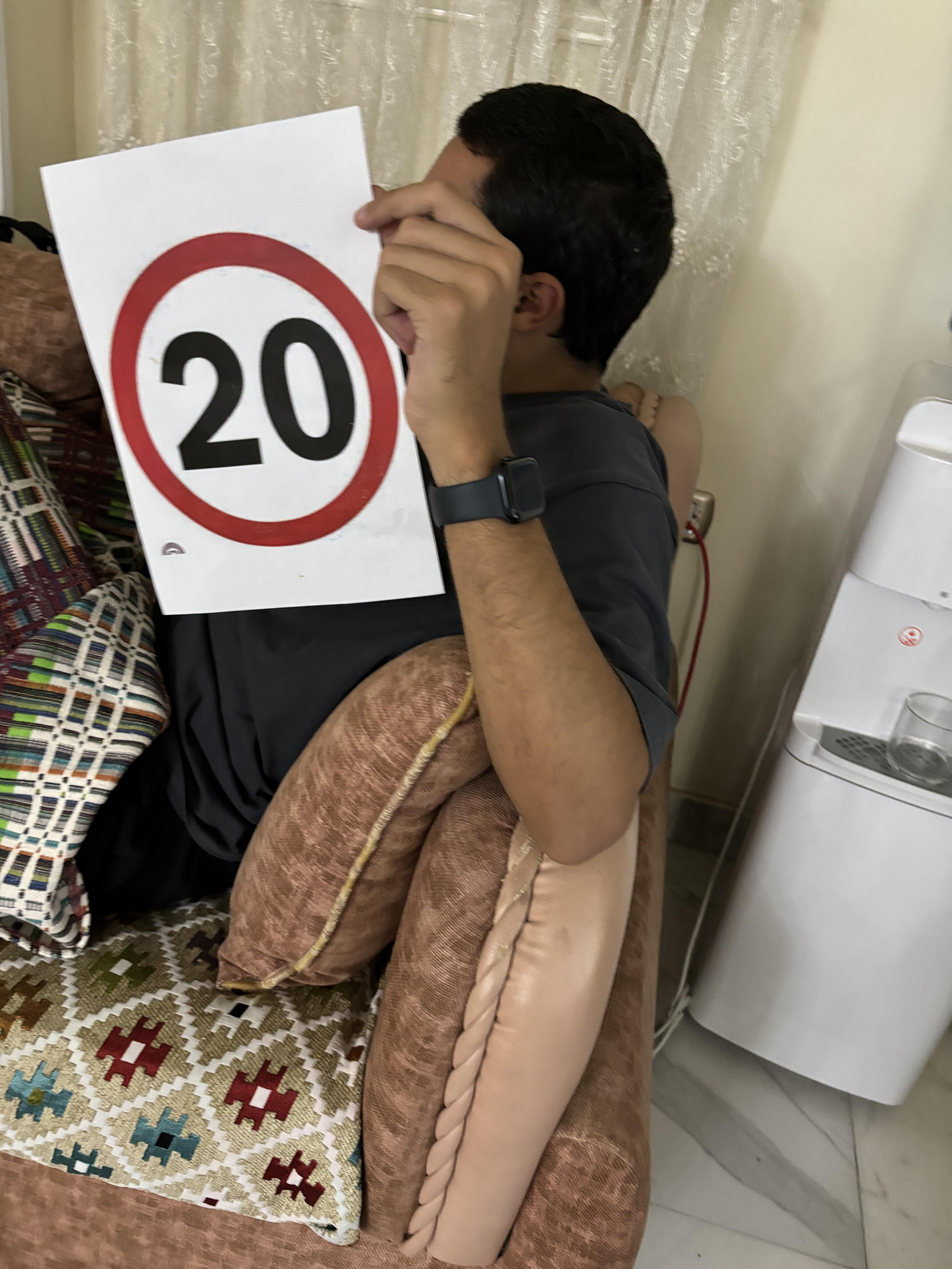20-Speed: (107, 216, 407, 550)
